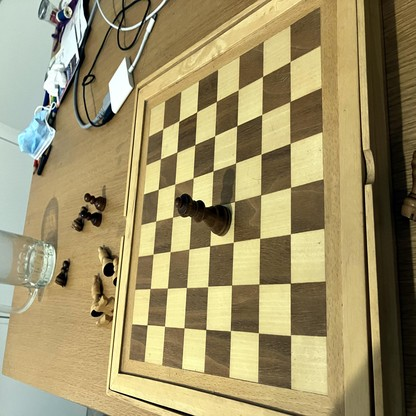bishop_white: (92, 274, 102, 316)
knight_white: (95, 297, 116, 317), (97, 316, 114, 330)
pawn_black: (56, 260, 70, 286), (81, 210, 102, 227), (85, 194, 107, 210), (72, 206, 86, 230)
queen_black: (175, 194, 232, 237)
queen_white: (99, 246, 112, 276)
